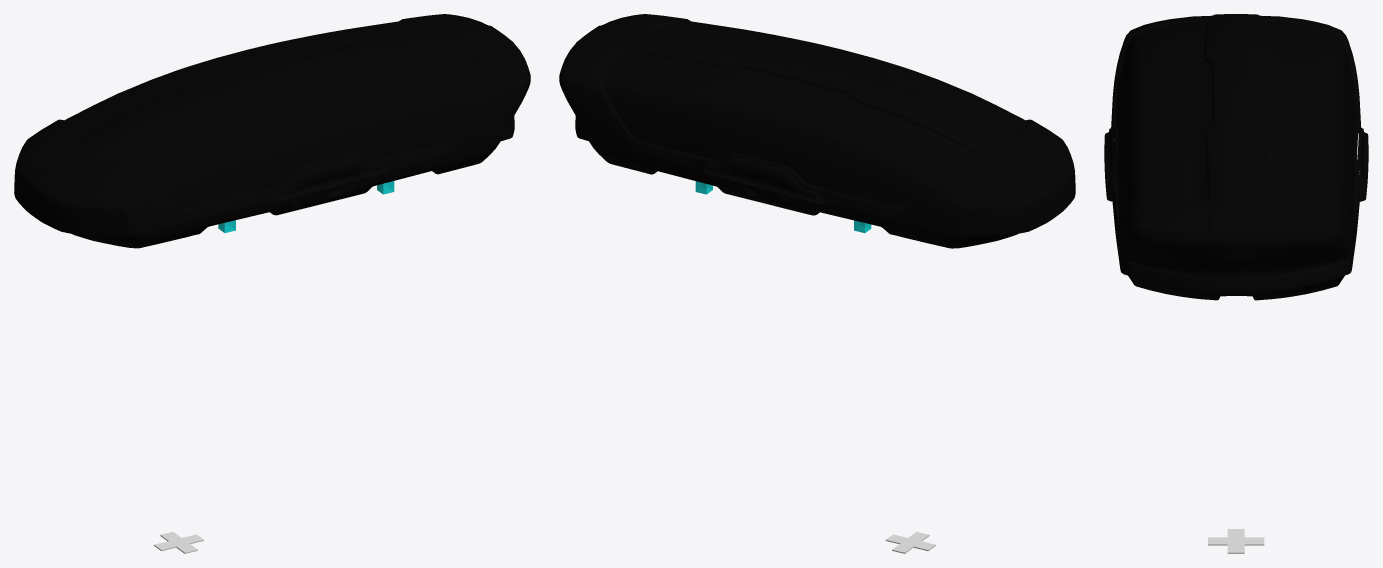
File: close.glb
3 renders of one model, left to right at view 1: azimuth 30°, elevation 25°; view 2: azimuth 150°, elevation 25°; view 3: azimuth 270°, elevation 25°, orthographic. The views are drawn at different scales.
Parts seen in each view (by area): view 1: XT_XL_low; view 2: XT_XL_low; view 3: XT_XL_low, Box006, Box007.
Part boxes in pixels (x1=…): XT_XL_low: x1=14, y1=14, x2=530, y2=248; XT_XL_low: x1=559, y1=14, x2=1075, y2=248; XT_XL_low: x1=1104, y1=14, x2=1368, y2=300; Box006: x1=1208, y1=537, x2=1264, y2=545; Box007: x1=1227, y1=529, x2=1244, y2=553.
Size of the model in its own units: 2.14 by 1.95 by 0.9098.
3 materials, 2 textured.
